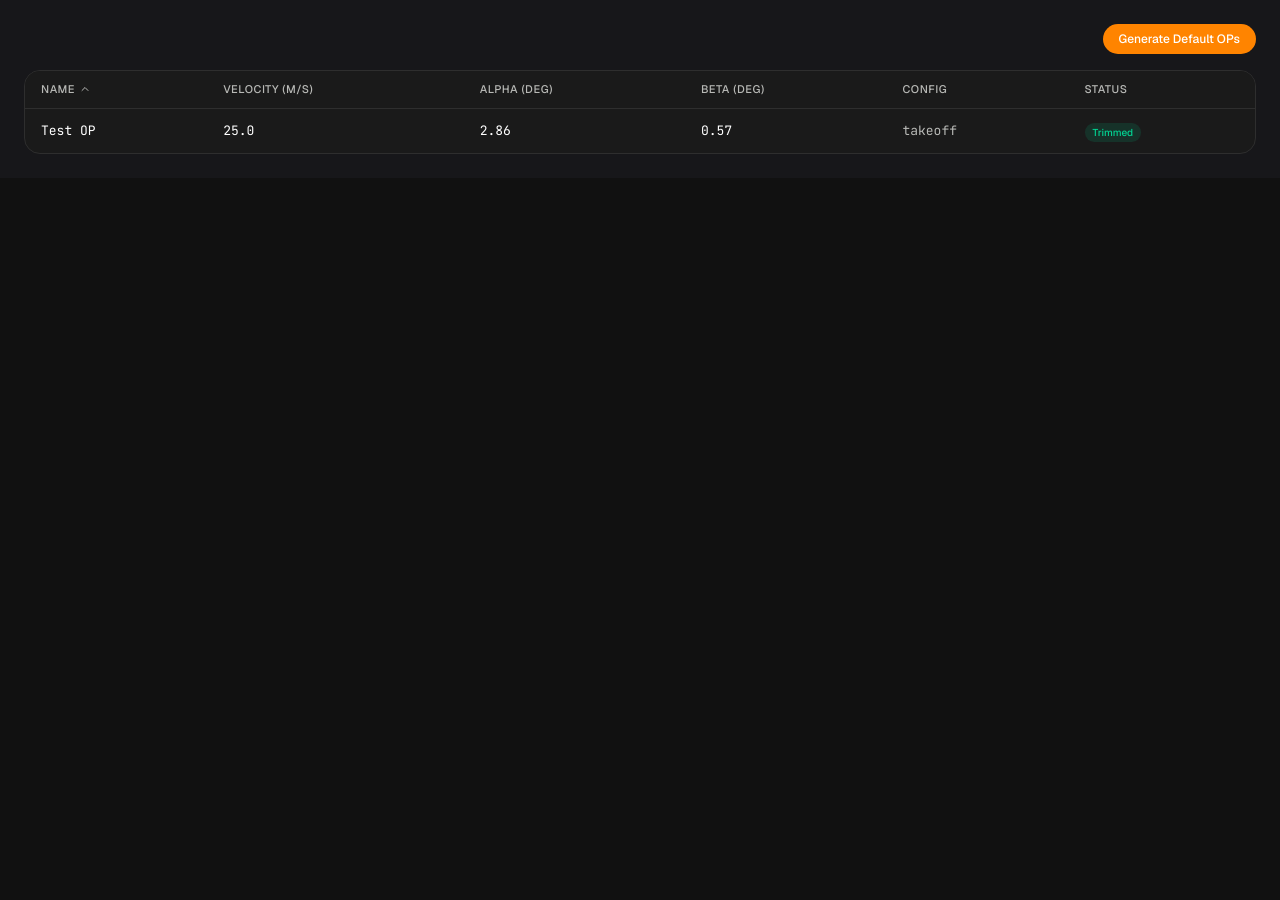
Test: OperatingPointsPanel › drawer shows flight condition details
Click the text "Test OP" at (68, 130), box [25, 108, 207, 152]
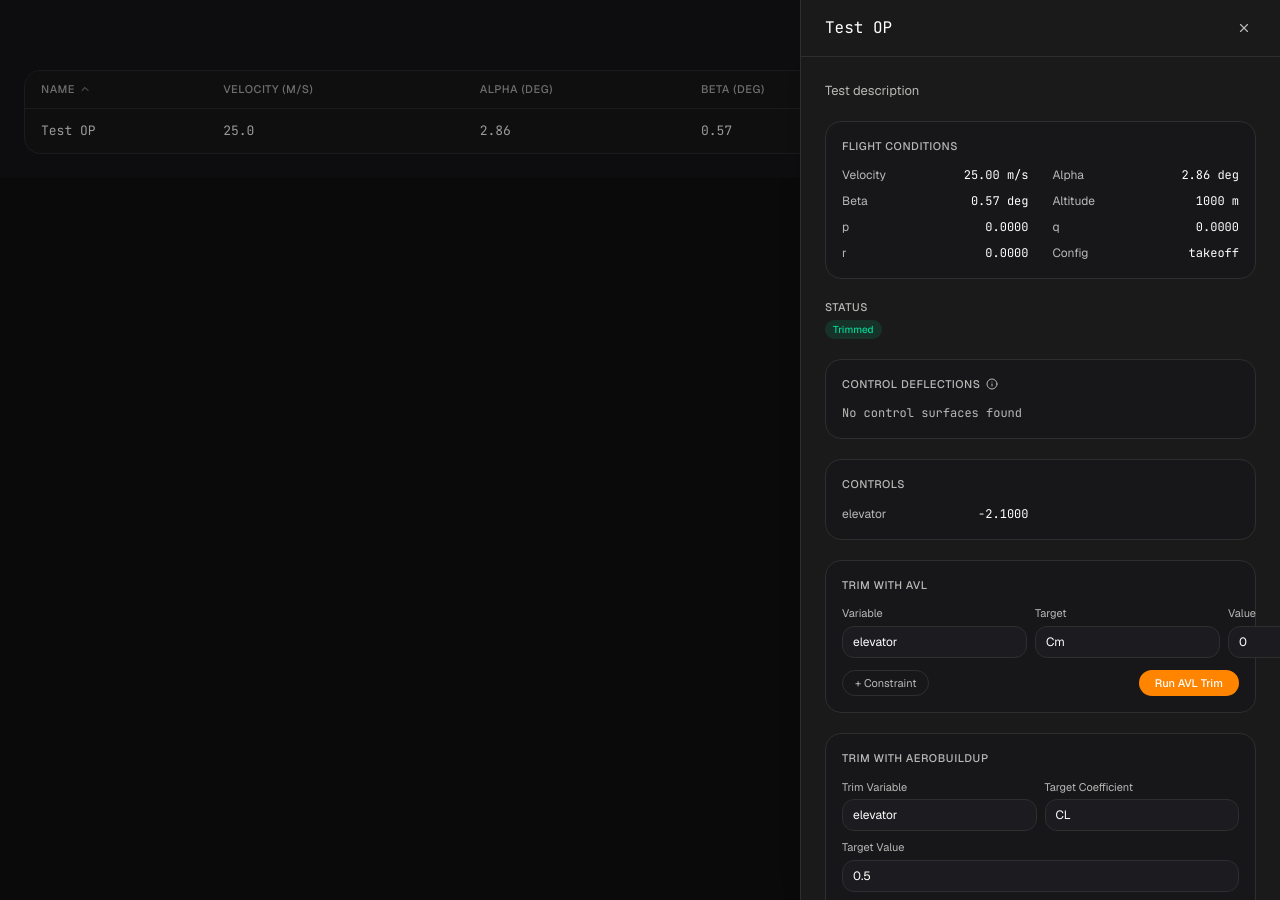
Check: the text "Flight Conditions" is shown, box [842, 138, 958, 152]
Check: the text "Test description" is shown, box [825, 82, 919, 99]
Check: the text "25.00 m/s" is shown, box [964, 166, 1028, 184]
